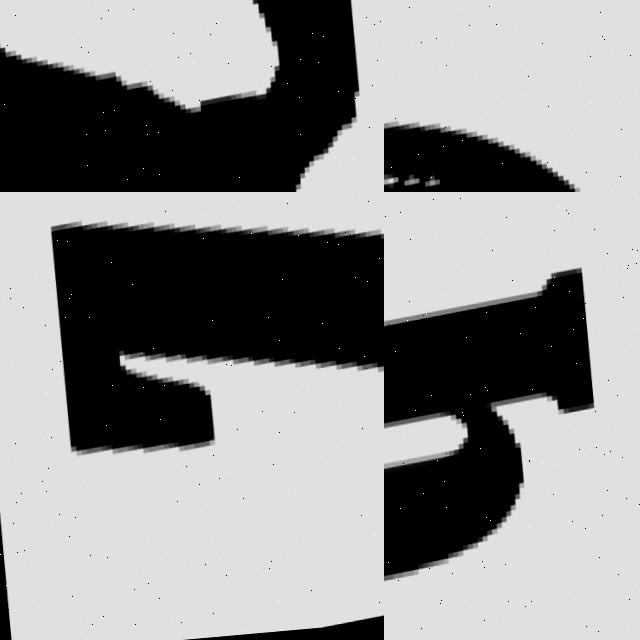9: (384, 80, 640, 192)
C: (0, 0, 357, 192)
Q: (384, 270, 610, 640)
Z: (36, 192, 384, 487)
